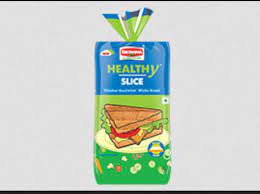bread: (92, 8, 177, 189)
